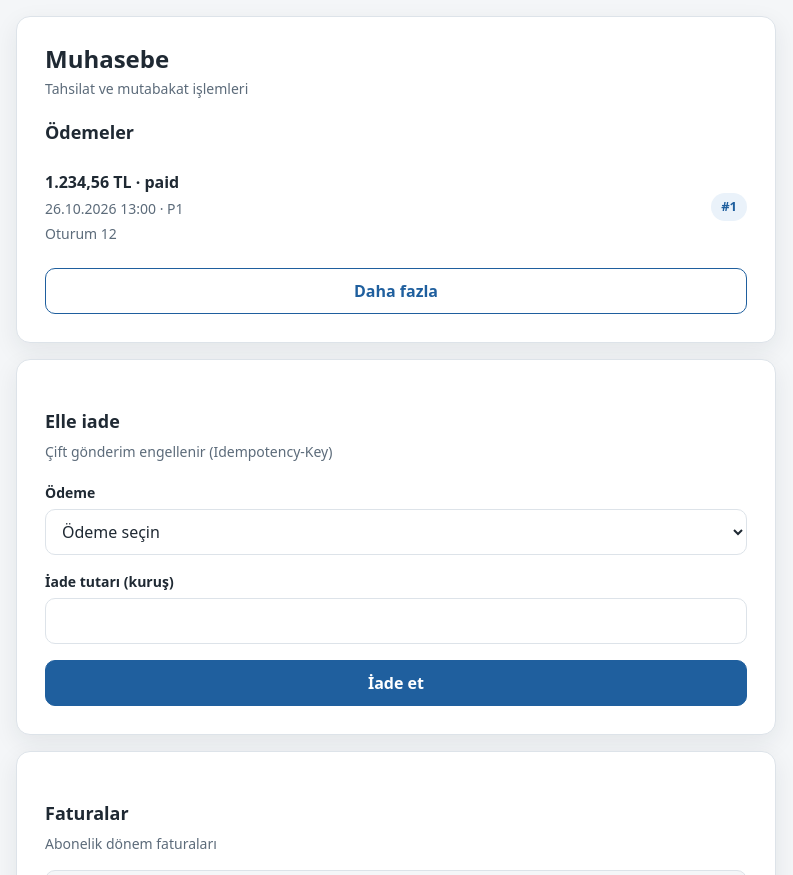
MuhasebePage › ödemelerde keyset Daha fazla isteğini after_id ile yapar
Expected: the text "26.10.2026 13:00 · P1" is shown, [45, 199, 184, 218]
What coordinates should you click on to do the following:
click the button "Daha fazla"
I would click on:
 (396, 291)
Its box is [45, 268, 747, 314].
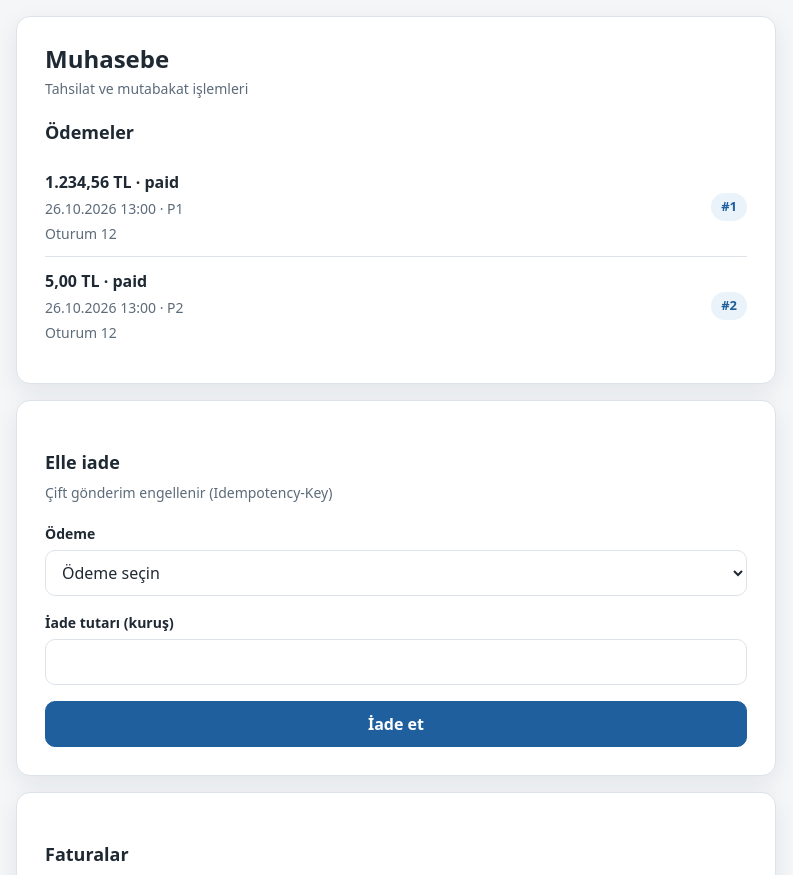
Expected: the text "26.10.2026 13:00 · P2" is shown, [45, 298, 184, 317]
